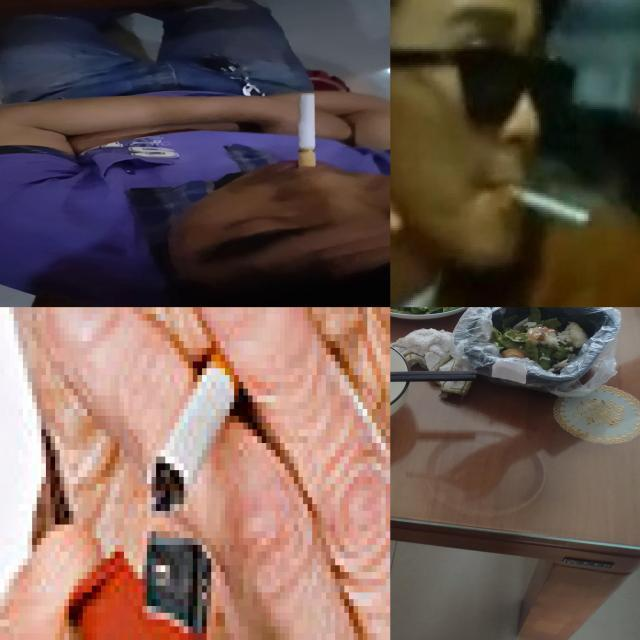smoke: (146, 324, 257, 515), (498, 180, 591, 228), (298, 93, 316, 170)
